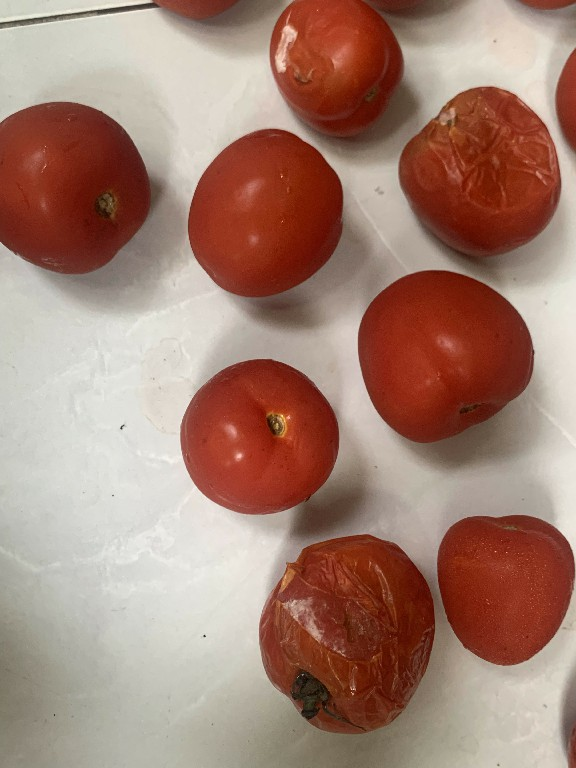NG: (252, 531, 439, 742), (388, 83, 564, 253), (259, 4, 407, 142)
OK: (349, 265, 536, 447), (0, 84, 159, 287), (177, 122, 348, 305), (170, 353, 345, 515), (428, 504, 576, 668)
